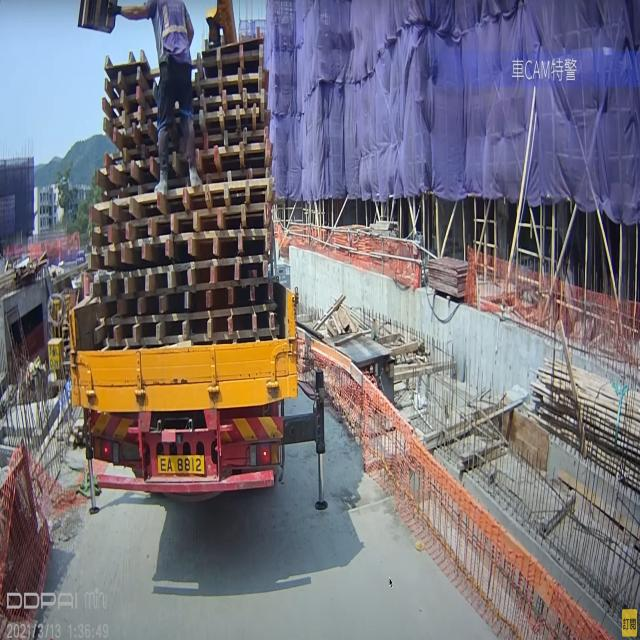machinery: (70, 315, 324, 514)
worker: (130, 7, 203, 188)
